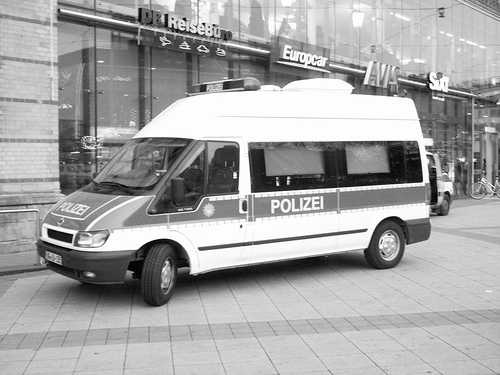Police Van: (12, 69, 442, 305)
